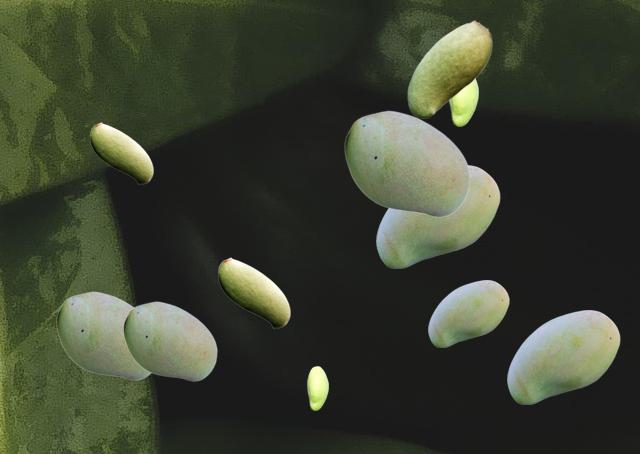green_mango: (344, 110, 469, 216), (376, 165, 499, 267), (507, 310, 619, 403), (56, 291, 150, 379), (407, 20, 491, 117), (123, 301, 216, 380), (428, 280, 508, 346), (218, 257, 289, 327), (90, 122, 152, 183), (449, 79, 477, 125), (307, 366, 327, 409)
